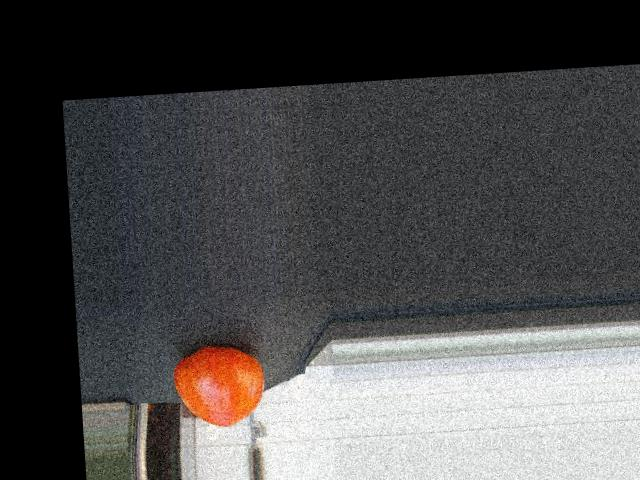tomato: (172, 343, 267, 430)
